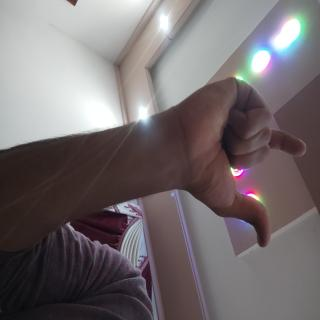NOON: (51, 13, 193, 198)
